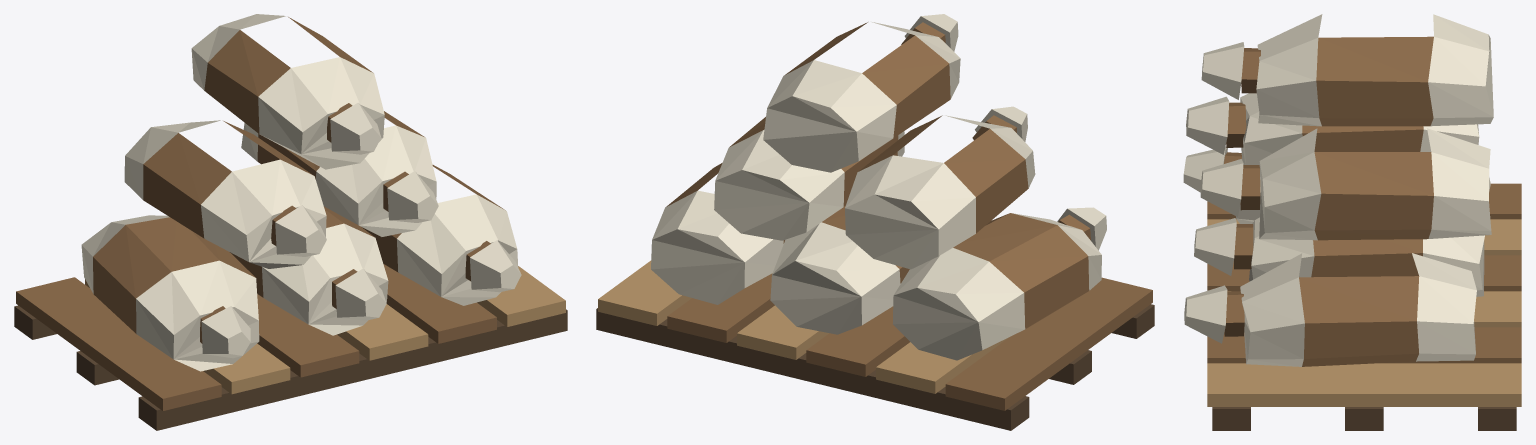
The model's file is quay-stack-flour.glb.
The picture shows the model from 3 angles, left to right: view 1: azimuth 30°, elevation 25°; view 2: azimuth 150°, elevation 25°; view 3: azimuth 270°, elevation 25°; orthographic projection. The views are drawn at different scales.
Visible parts, largest first — view 1: quay-stack-flour; view 2: quay-stack-flour; view 3: quay-stack-flour.
Boxes of the visible parts, box(x1,y1,x2,y2) form: quay-stack-flour: box(14, 14, 567, 430); quay-stack-flour: box(596, 14, 1154, 430); quay-stack-flour: box(1183, 14, 1521, 430).
Size of the model in its own units: 2.1 by 1.38 by 1.4.
1 material, 1 textured.
